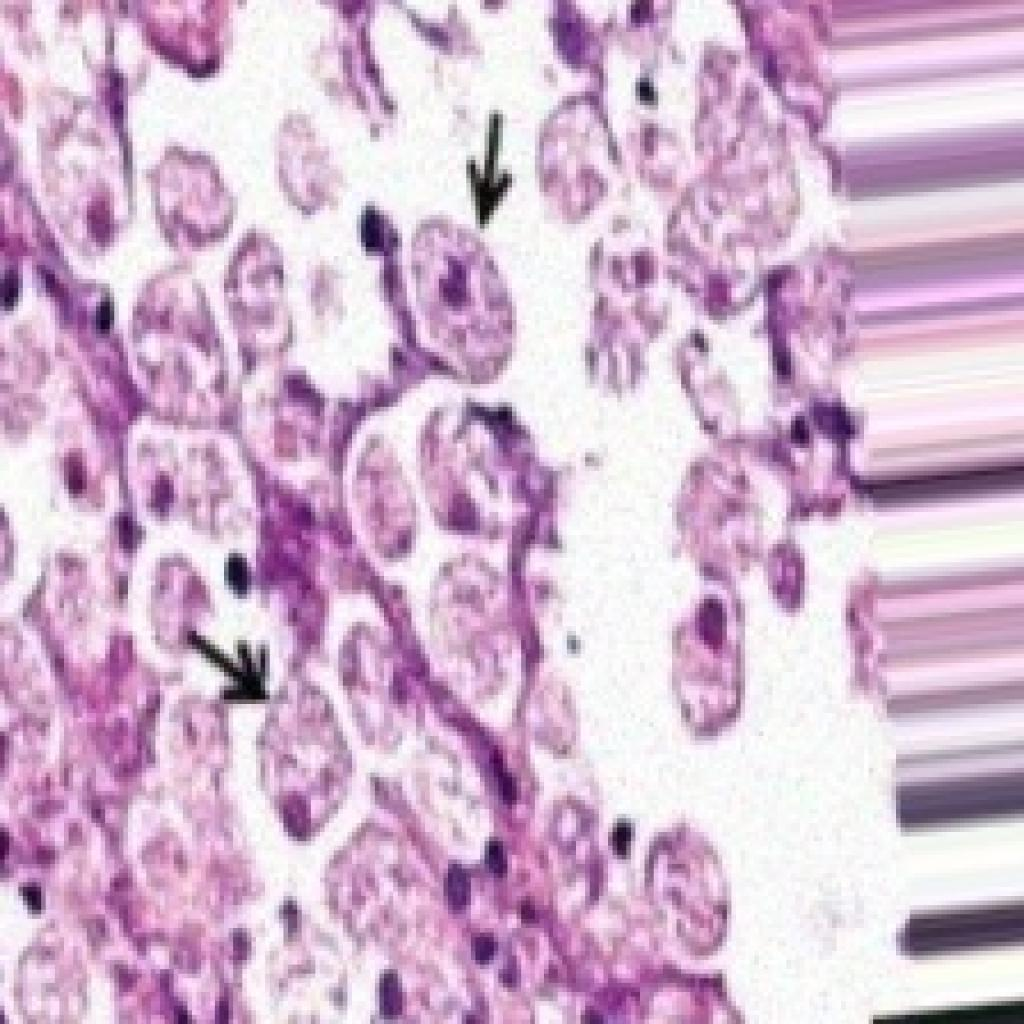Amoeba: (0, 0, 914, 1019)
